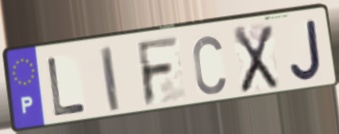C: (190, 33, 228, 98)
F: (134, 34, 182, 109)
I: (98, 44, 123, 115)
J: (288, 17, 324, 82)
L: (44, 56, 88, 119)
X: (231, 23, 280, 96)
